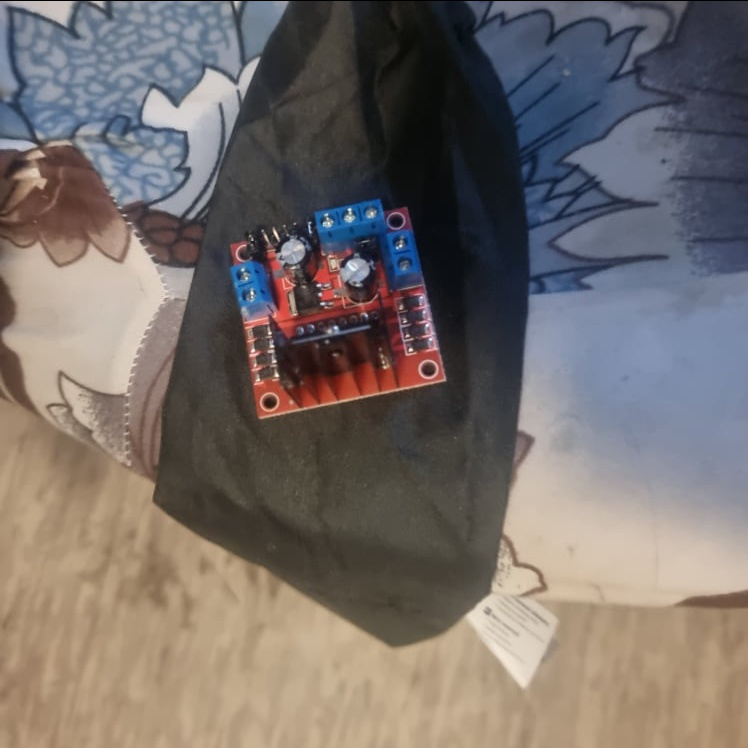MOTOR: (225, 194, 453, 425)
